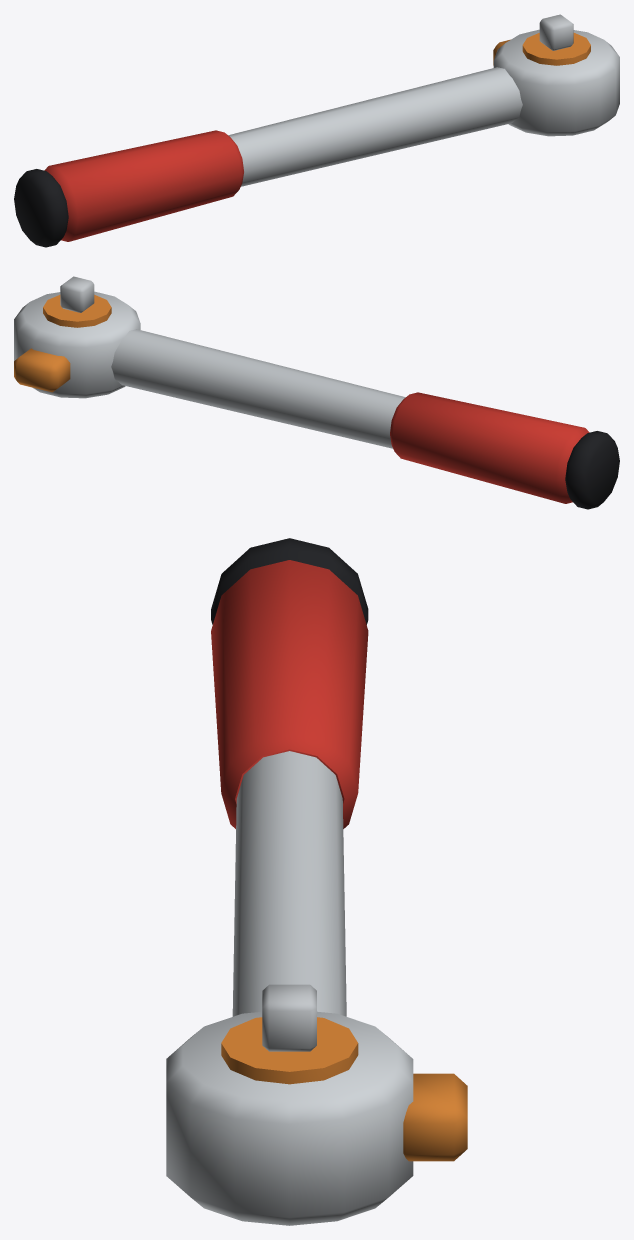
The model's file is SM_Ratchet_01.glb.
3 views of the same model, one above another, from view 1: azimuth 30°, elevation 25°; view 2: azimuth 150°, elevation 25°; view 3: azimuth 270°, elevation 25° (orthographic). The views are drawn at different scales.
Parts seen in each view (by area): view 1: SM_Ratchet_01; view 2: SM_Ratchet_01; view 3: SM_Ratchet_01.
Part boxes in pixels (x1,y1,x2,y2): SM_Ratchet_01: [14, 14, 619, 247]; SM_Ratchet_01: [14, 276, 619, 509]; SM_Ratchet_01: [166, 538, 467, 1225].
Size of the model in its own units: 0.392 by 0.063 by 0.0881.
Materials: 1 (1 with a texture image).
